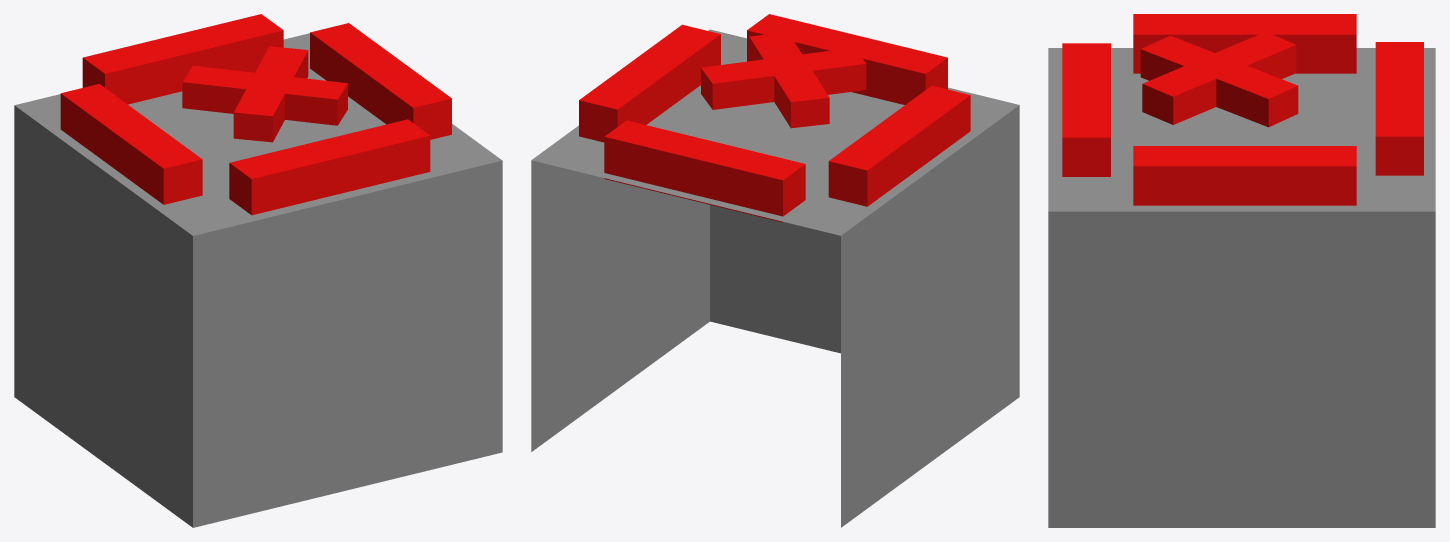
File: notB.FBX
3 views of the same model, side by side, from view 1: azimuth 30°, elevation 25°; view 2: azimuth 150°, elevation 25°; view 3: azimuth 270°, elevation 25° (orthographic). The views are drawn at different scales.
Visible parts, largest first — view 1: Box001, Box003, Box002, Box005, Box004, Box006, Box007; view 2: Box001, Box002, Box005, Box004, Box003, Box007, Box006; view 3: Box001, Box004, Box005, Box002, Box003, Box006, Box007.
Boxes of the visible parts, x1,y1,x2,y2 form: Box001: (14,33,502,527); Box003: (229,119,430,215); Box002: (82,14,283,104); Box005: (60,84,202,204); Box004: (310,23,451,139); Box006: (182,65,347,125); Box007: (233,46,308,142); Box001: (531,29,1019,527); Box002: (604,120,805,222); Box005: (828,85,970,206); Box004: (579,24,720,142); Box003: (747,14,947,104); Box007: (701,47,866,109); Box006: (749,32,829,128); Box001: (1048,48,1435,527); Box004: (1133,146,1356,205); Box005: (1133,14,1356,73); Box002: (1375,42,1423,175); Box003: (1062,43,1110,176); Box006: (1142,32,1296,124); Box007: (1140,35,1298,127).
Bounding box in the file's own units: 0.8889 × 0.9623 × 0.8889.
